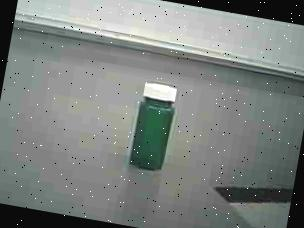Bottle C: (122, 75, 188, 175)
